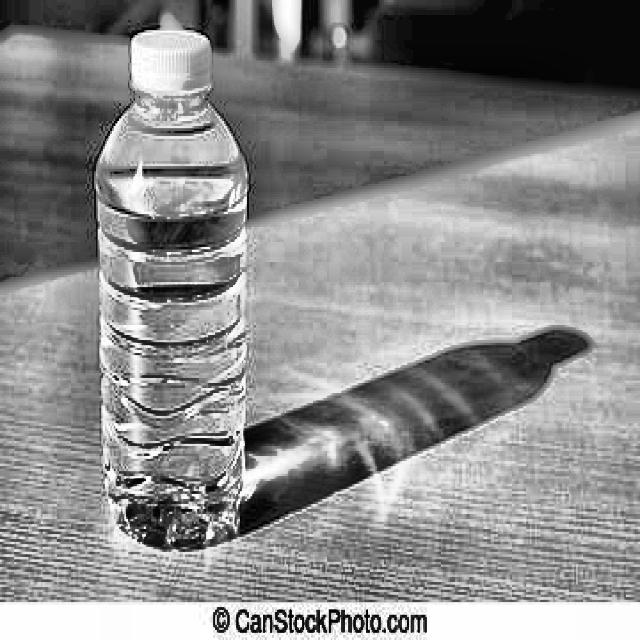waterbottle: (89, 24, 257, 555)
